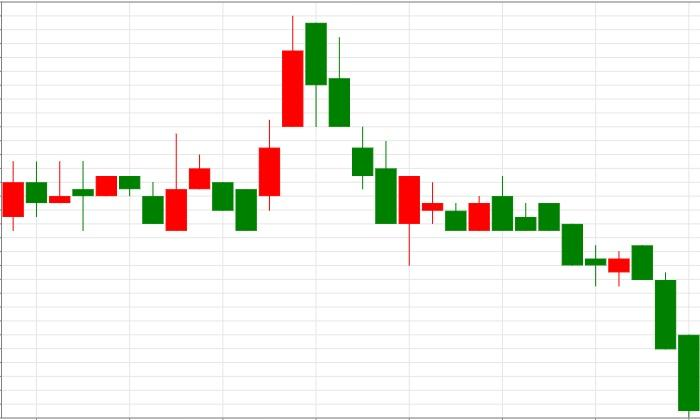three_black_crows_fall: (235, 15, 373, 231)
